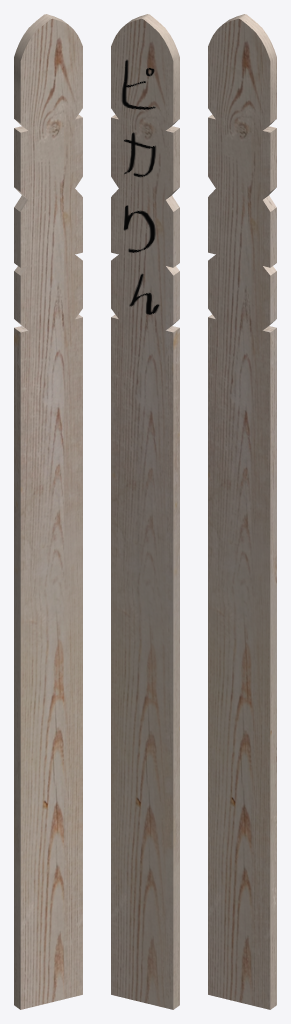
File: sotoba3.FBX
The picture shows the model from 3 angles, left to right: view 1: azimuth 30°, elevation 25°; view 2: azimuth 150°, elevation 25°; view 3: azimuth 330°, elevation 25°; orthographic projection.
Visible parts, largest first — view 1: sotoba3; view 2: sotoba3; view 3: sotoba3.
Boxes of the visible parts, left/top/right/bottom form: sotoba3: left=14, top=14, right=82, bottom=1009; sotoba3: left=111, top=14, right=179, bottom=1009; sotoba3: left=208, top=14, right=276, bottom=1009.
Size of the model in its own units: 9.03 by 1.61 by 136.
